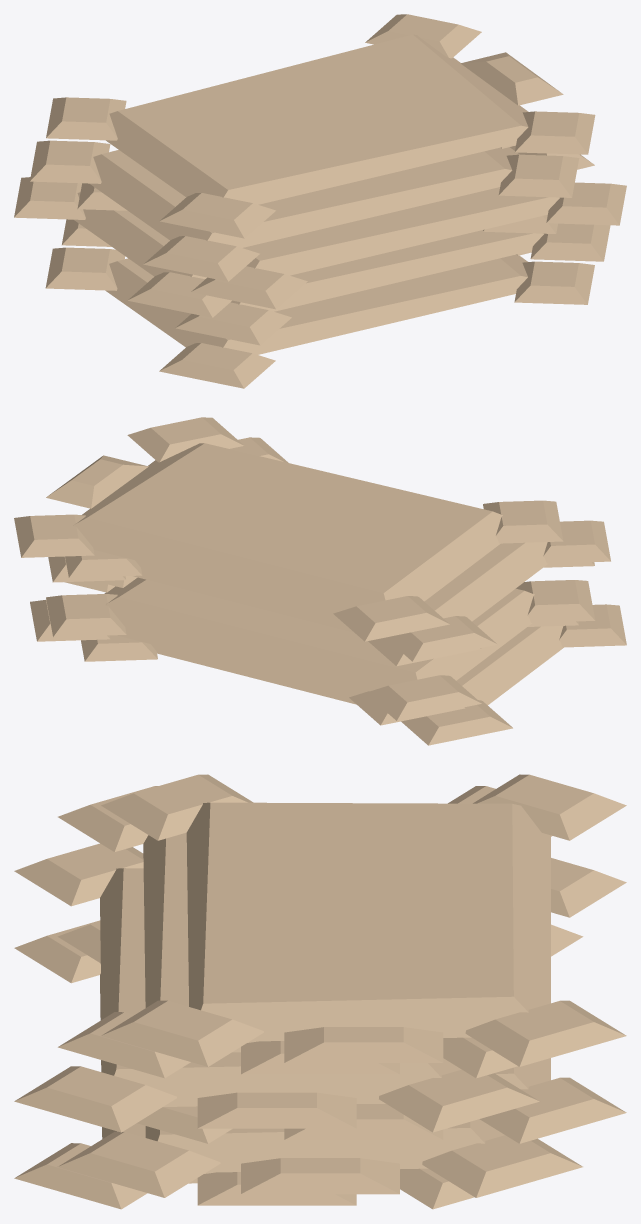
File: item_016_wolf_hide_l.glb
The picture shows the model from 3 angles, top to bottom: view 1: azimuth 30°, elevation 25°; view 2: azimuth 150°, elevation 25°; view 3: azimuth 270°, elevation 25°; orthographic projection. The views are drawn at different scales.
Visible parts, largest first — view 1: item_016_wolf_hide_l; view 2: item_016_wolf_hide_l; view 3: item_016_wolf_hide_l.
Boxes of the visible parts, <box> form: item_016_wolf_hide_l: <box>14,14,626,388</box>; item_016_wolf_hide_l: <box>14,417,626,745</box>; item_016_wolf_hide_l: <box>14,774,626,1209</box>.
Bounding box in the file's own units: 1.03 × 0.2939 × 0.8476.
